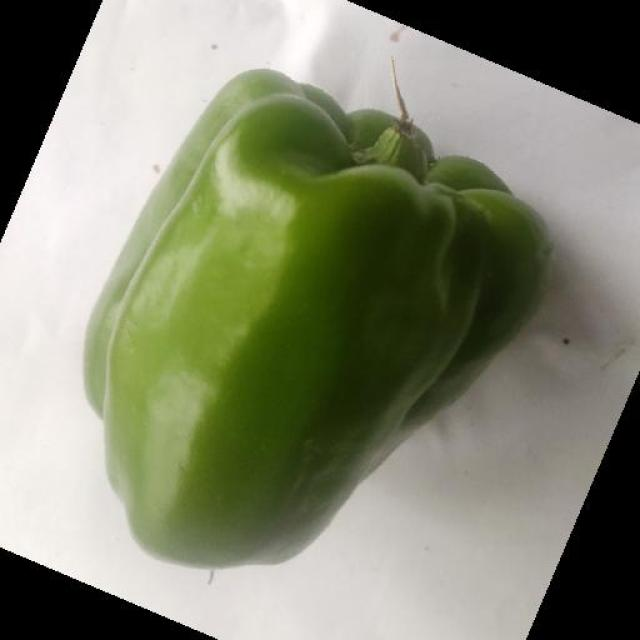Fresh_Capsicum: (88, 84, 518, 570)
